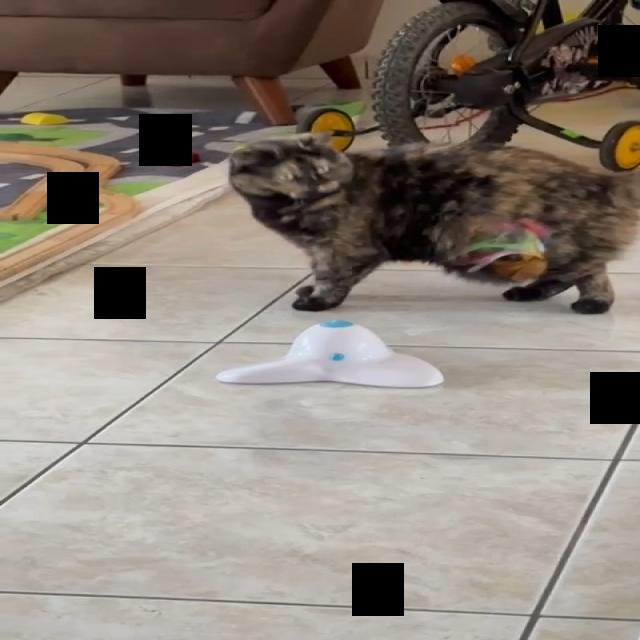authorized: (226, 131, 638, 314)
